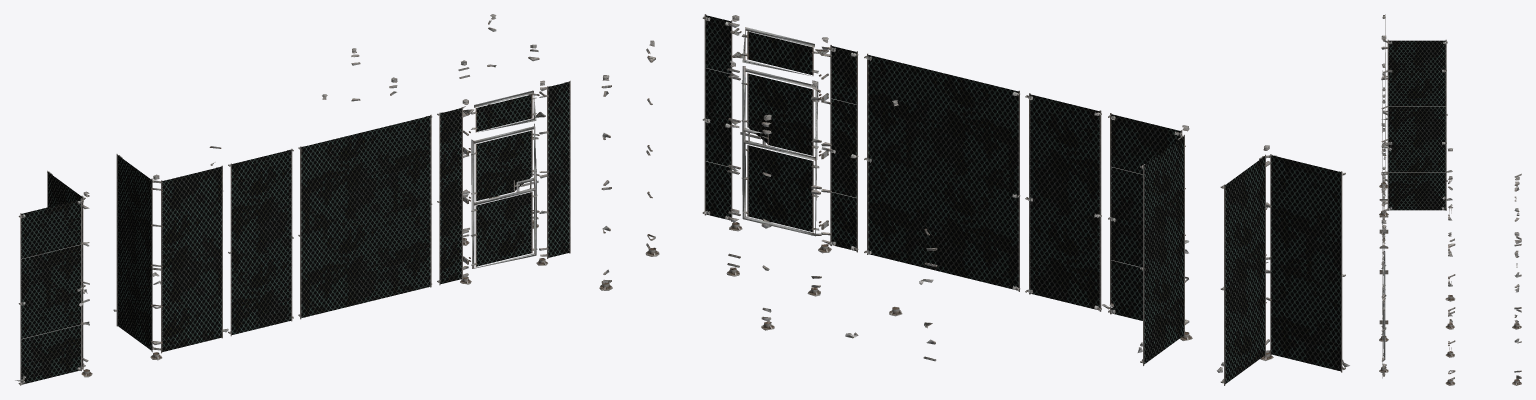
The model's file is modular_chainlink_fence.glb.
3 renders of one model, left to right at view 1: azimuth 30°, elevation 25°; view 2: azimuth 150°, elevation 25°; view 3: azimuth 270°, elevation 25°, orthographic. The views are drawn at different scales.
Parts seen in each view (by area): view 1: modular_chainlink_fence_door_gate, modular_chainlink_fence_door_latch; view 2: modular_chainlink_fence_door_gate, modular_chainlink_fence_door_latch; view 3: modular_chainlink_fence_door_gate, modular_chainlink_fence_door_latch.
Part boxes in pixels (x1,y1,x2,y2): modular_chainlink_fence_door_gate: (21, 82, 569, 384); modular_chainlink_fence_door_latch: (15, 14, 570, 385); modular_chainlink_fence_door_gate: (706, 15, 1340, 383); modular_chainlink_fence_door_latch: (599, 14, 1349, 385); modular_chainlink_fence_door_gate: (1388, 40, 1445, 210); modular_chainlink_fence_door_latch: (1379, 14, 1521, 385).
Bounding box in the file's own units: 8.11 × 2.5 × 2.15.
Materials: 2 (2 with a texture image).
